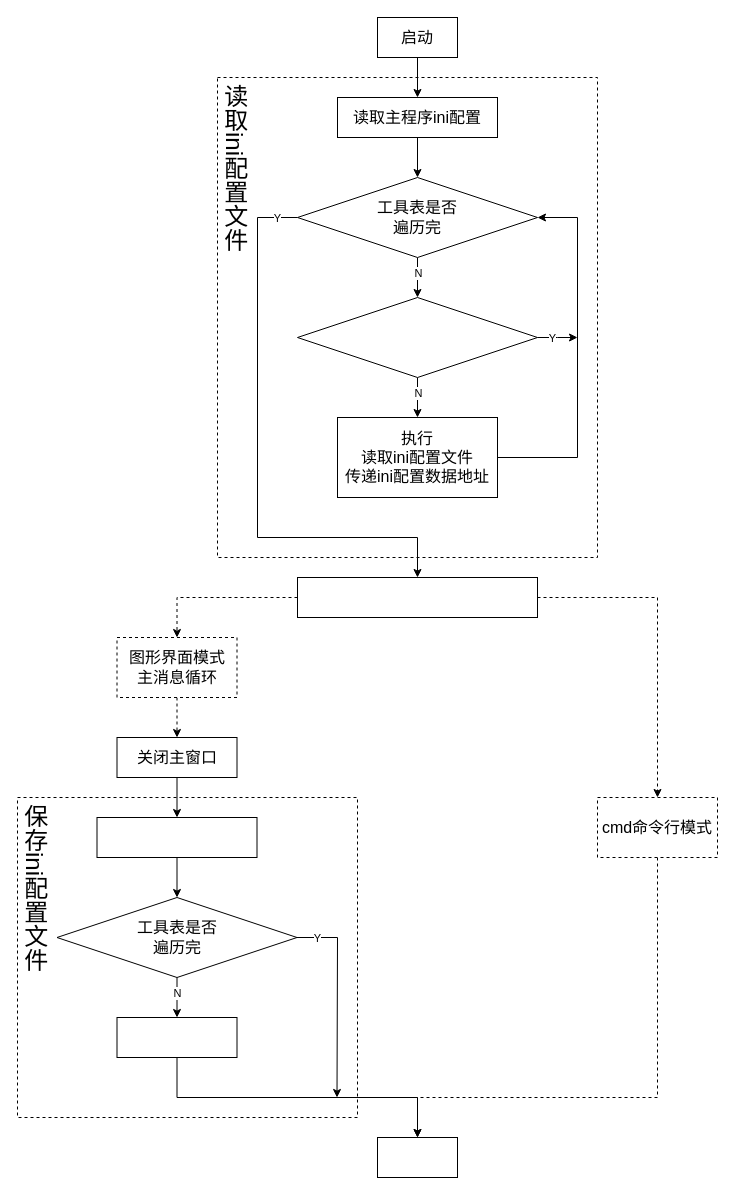
This 735x1195 diagram has some shape labels left out. The shapes that lost their labels are listed below. From the top down, each one's centre as x and y in pixels, then its label:
At point 417,337: "读取ini配置文件 是否为NULL".
At point 417,597: "进入 图形界面模式 / cmd命令行模式".
At point 176,837: "保存主程序ini配置".
At point 176,1037: "执行 保存ini配置文件".
At point 417,1157: "结束".
